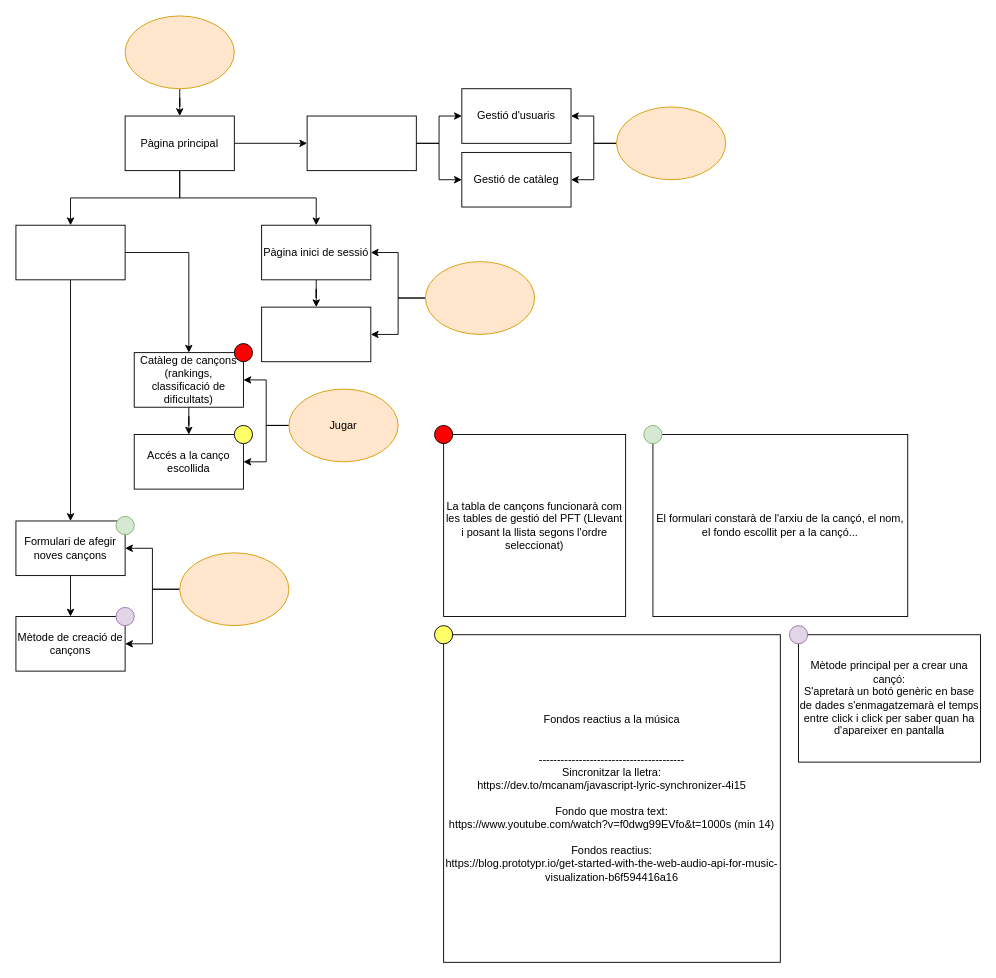
Some shapes in this 996 by 978 pixel diagram are drawn without their labels. Here are the shapes that lost their labels. From the top down, the centre of each, then its label:
the point at 179,52: Pàgina informativa
the point at 361,143: Admin
the point at 671,143: Gestió del Admin
the point at 70,252: Pàgina de joc
the point at 480,297: Inici de sessió
the point at 316,334: Accés a registre
the point at 234,589: Crear cançó
